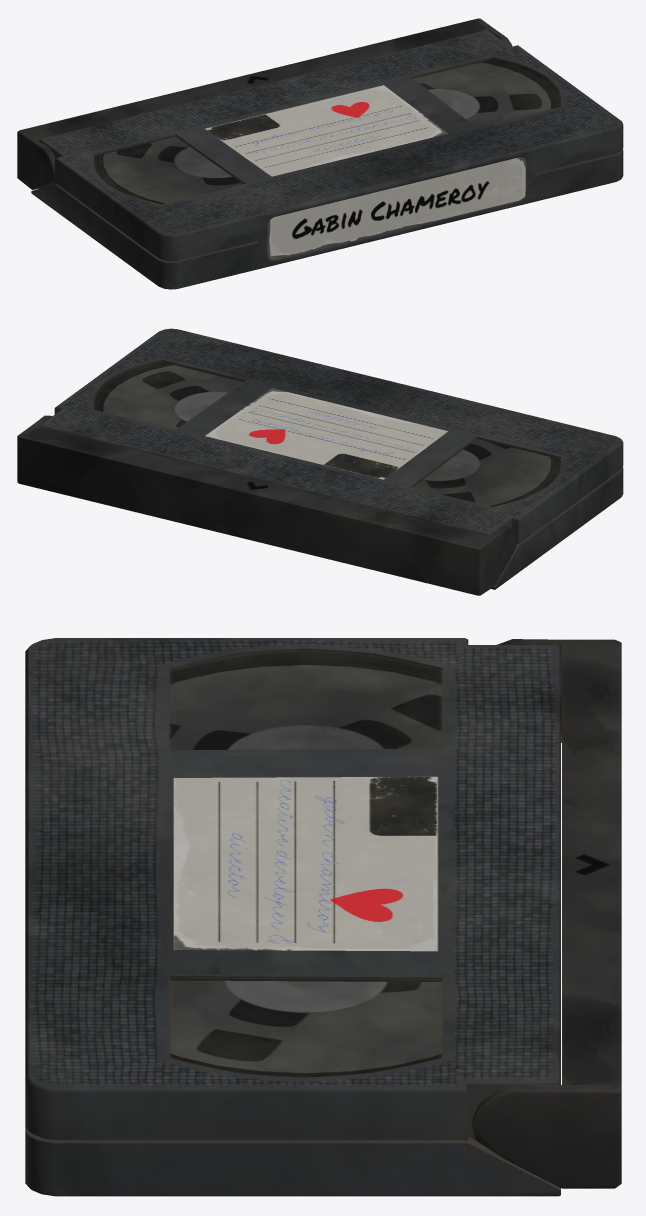
3 views of the same model, one above another, from view 1: azimuth 30°, elevation 25°; view 2: azimuth 150°, elevation 25°; view 3: azimuth 270°, elevation 25° (orthographic). The views are drawn at different scales.
Parts seen in each view (by area): view 1: VHS_VHS_mat_0, VHS_VHS_Title_mat_0; view 2: VHS_VHS_mat_0, VHS_VHS_Title_mat_0; view 3: VHS_VHS_mat_0, VHS_VHS_Title_mat_0.
Part boxes in pixels (<box>): VHS_VHS_mat_0: <box>17,18,623,289</box>; VHS_VHS_Title_mat_0: <box>205,85,526,260</box>; VHS_VHS_mat_0: <box>17,328,623,595</box>; VHS_VHS_Title_mat_0: <box>205,388,447,479</box>; VHS_VHS_mat_0: <box>25,638,621,1196</box>; VHS_VHS_Title_mat_0: <box>173,776,438,951</box>.
Size of the model in its own units: 7.23 by 0.8351 by 4.04.
Materials: 3 (2 with a texture image).
